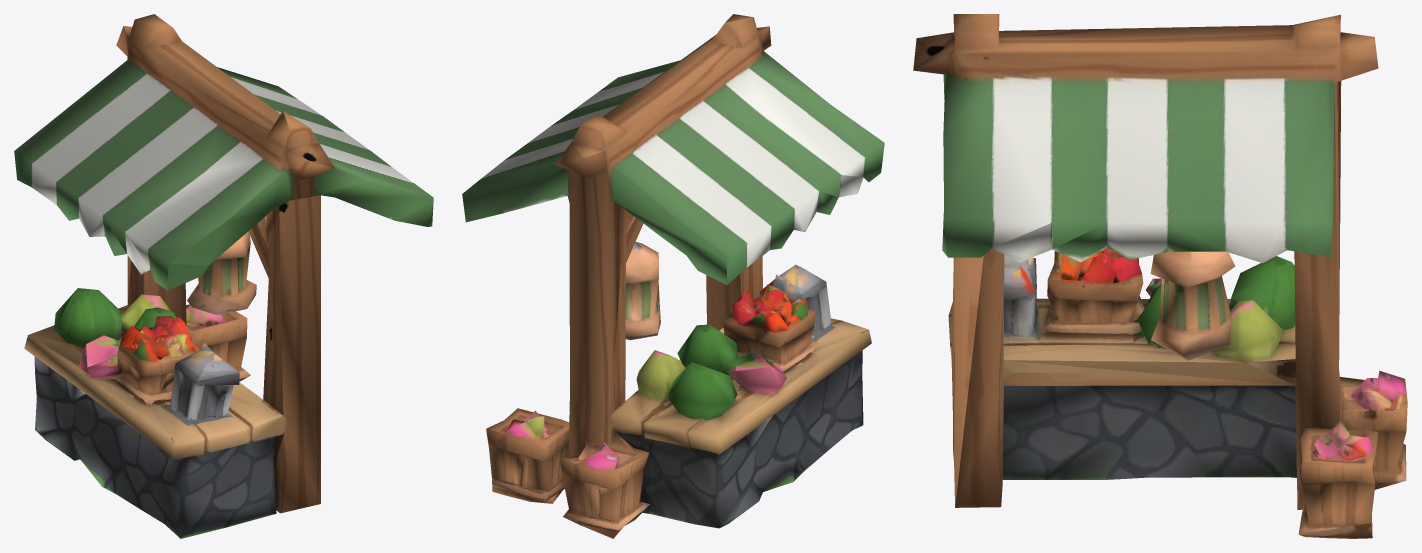
File: awning_stall_2_1500.glb
3 views of the same model, side by side, from view 1: azimuth 30°, elevation 25°; view 2: azimuth 150°, elevation 25°; view 3: azimuth 270°, elevation 25° (orthographic). The views are drawn at different scales.
Parts seen in each view (by area): view 1: t1500; view 2: t1500; view 3: t1500.
Part boxes in pixels (<box>): t1500: <box>14,14,433,538</box>; t1500: <box>462,14,884,538</box>; t1500: <box>913,14,1407,538</box>.
Size of the model in its own units: 1.11 by 1.54 by 1.42.
1 material, 1 textured.
